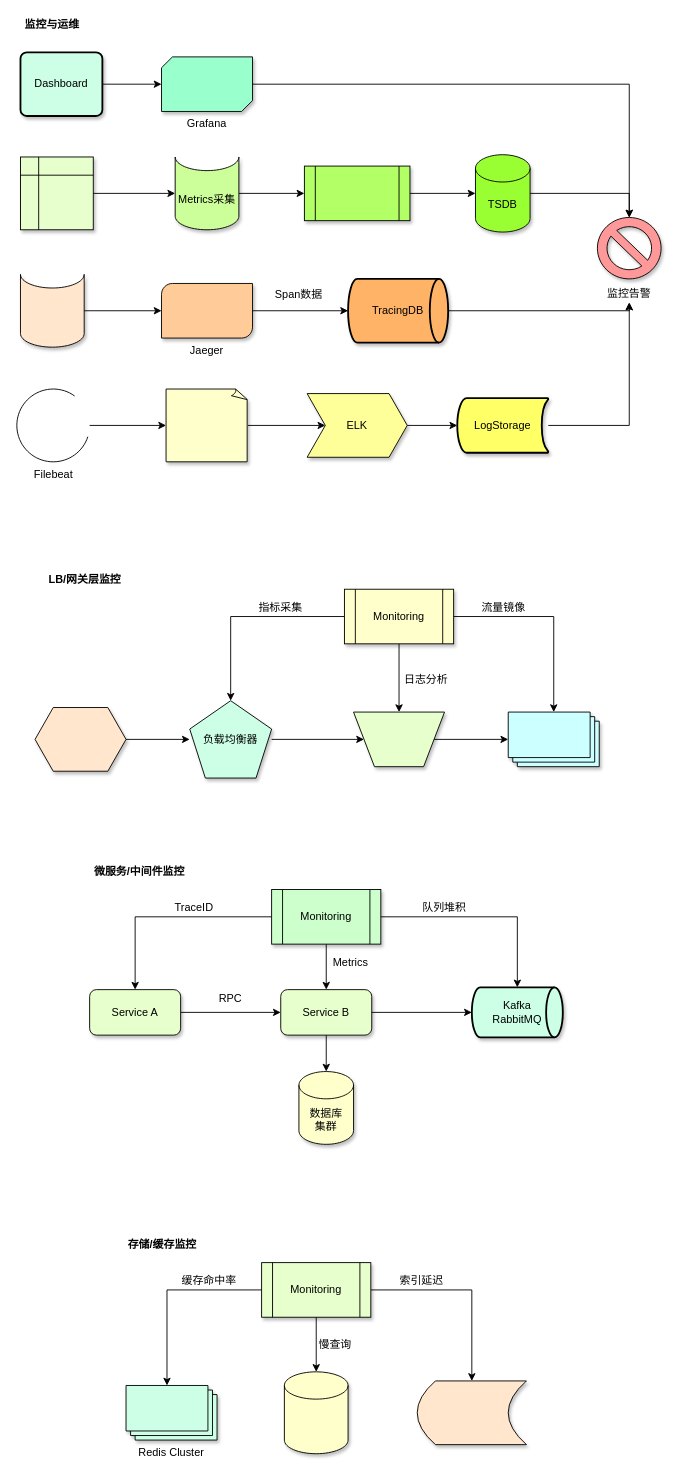
The diagram is 683 pixels wide and 1476 high, and some of its shapes have lost their labels. The shapes that lost their labels are listed below. From the top down, each one's centre as x and y in pixels, then its label:
At pixel 57 194: "指标 监控".
At pixel 357 194: "Prometheus".
At pixel 53 312: "Traces采样".
At pixel 207 426: "Logs分析".
At pixel 80 740: "CDN".
At pixel 399 740: "API Gateway".
At pixel 554 740: "服务集群".
At pixel 317 1413: "MySQL 主从".
At pixel 472 1413: "Elasticsearch".
